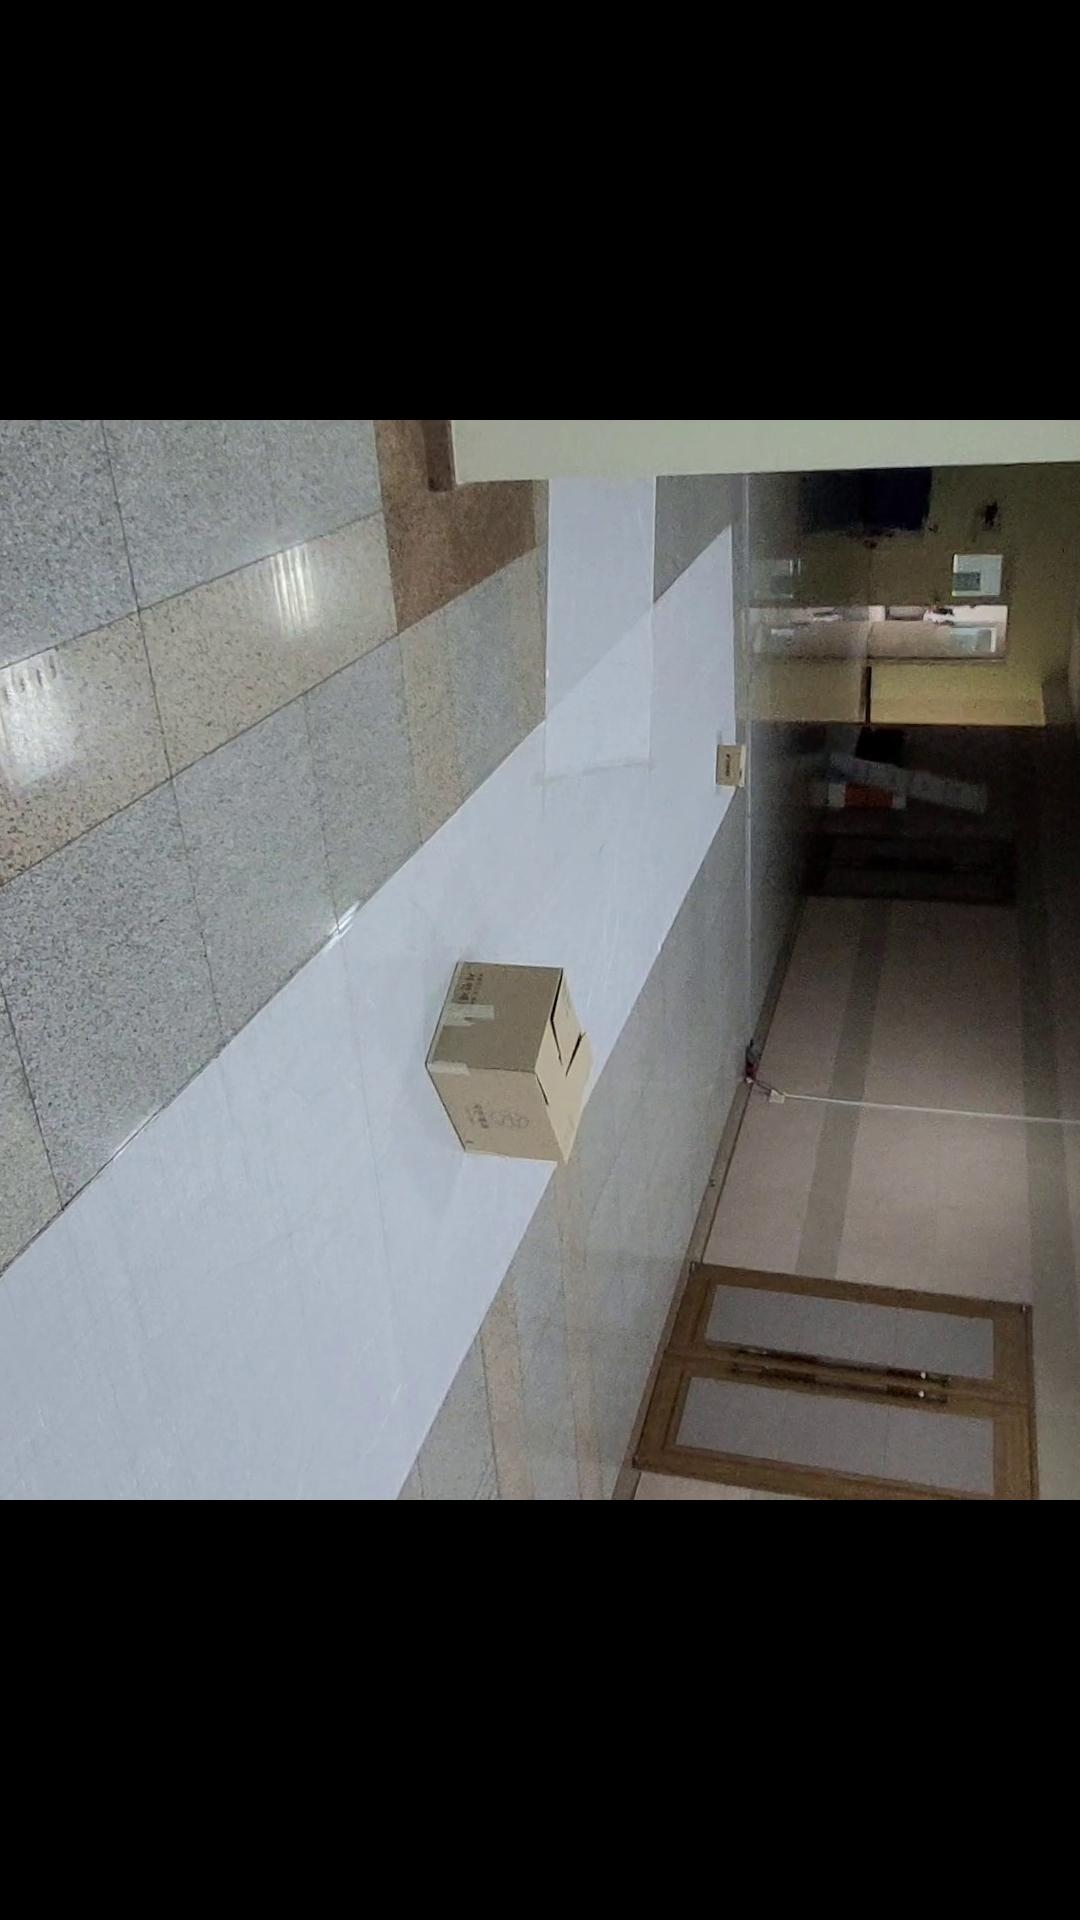Box: (407, 934, 612, 1174), (694, 716, 775, 803)
